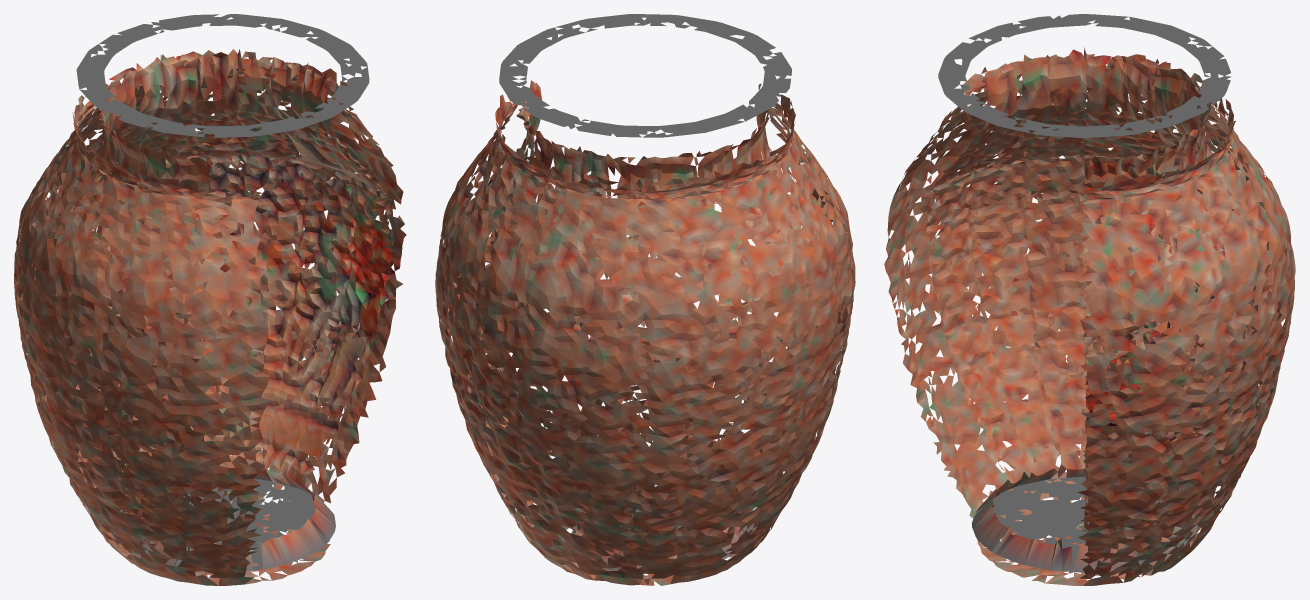
File: vase_final300.obj
3 renders of one model, left to right at view 1: azimuth 30°, elevation 25°; view 2: azimuth 150°, elevation 25°; view 3: azimuth 270°, elevation 25°, orthographic.
Bounding box in the file's own units: 1.44 × 1.77 × 1.41.
